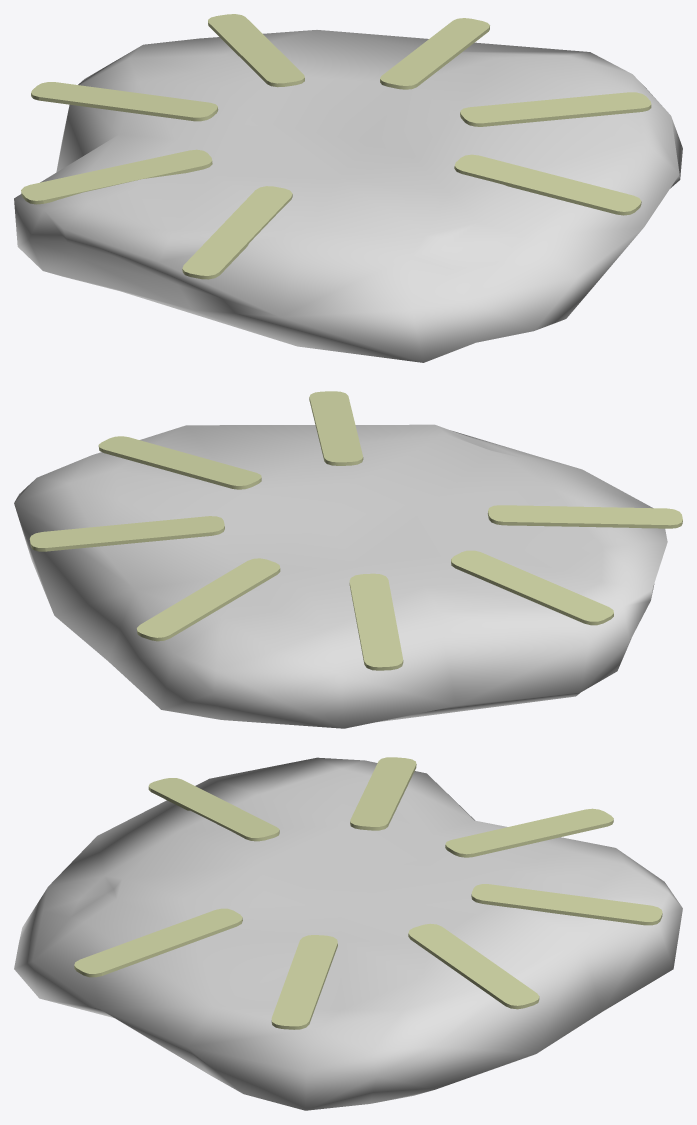
Rendered from MortairTower_Base.fbx.
The picture shows the model from 3 angles, top to bottom: view 1: azimuth 30°, elevation 25°; view 2: azimuth 150°, elevation 25°; view 3: azimuth 270°, elevation 25°; orthographic projection. The views are drawn at different scales.
Visible parts, largest first — view 1: Rock_01.002; view 2: Rock_01.002; view 3: Rock_01.002.
Boxes of the visible parts, x1,y1,x2,y2 form: Rock_01.002: (14,14,682,362); Rock_01.002: (14,391,682,728); Rock_01.002: (14,757,682,1110).
Bounding box in the file's own units: 3.74 × 0.6203 × 3.61.
